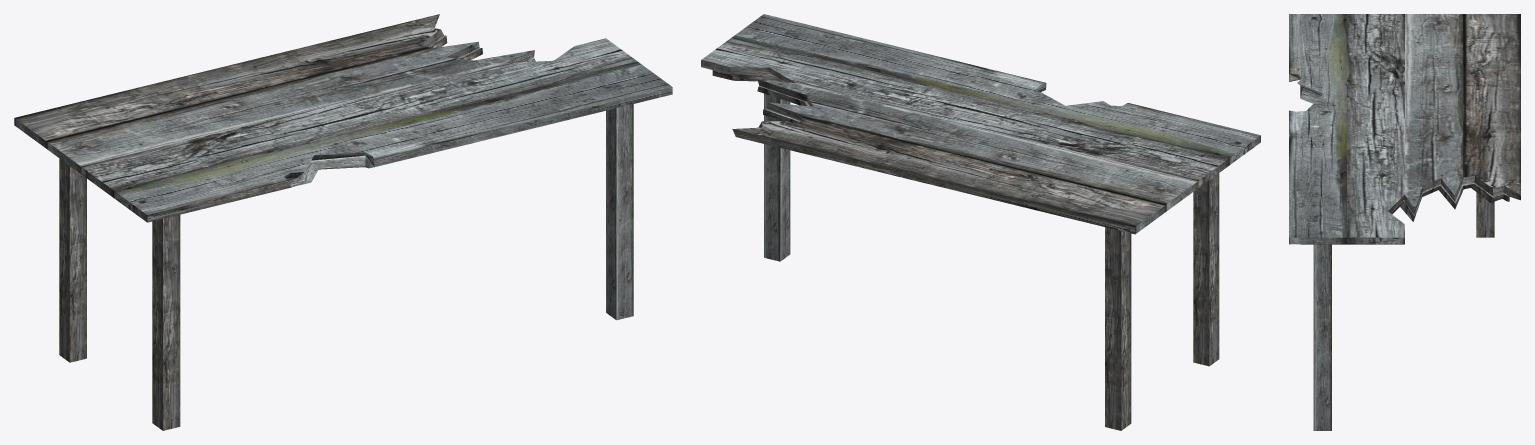
The model's file is BrakeTable.dae.
The picture shows the model from 3 angles, left to right: view 1: azimuth 30°, elevation 25°; view 2: azimuth 150°, elevation 25°; view 3: azimuth 270°, elevation 25°; orthographic projection. The views are drawn at different scales.
Visible parts, largest first — view 1: BrokenTable; view 2: BrokenTable; view 3: BrokenTable.
Part boxes in pixels (box(x1,y1,x2,y2)): BrokenTable: box(14, 14, 672, 430); BrokenTable: box(701, 14, 1260, 430); BrokenTable: box(1289, 14, 1520, 430).
Bounding box in the file's own units: 5.06 × 2.22 × 2.15.
Materials: 1 (1 with a texture image).
